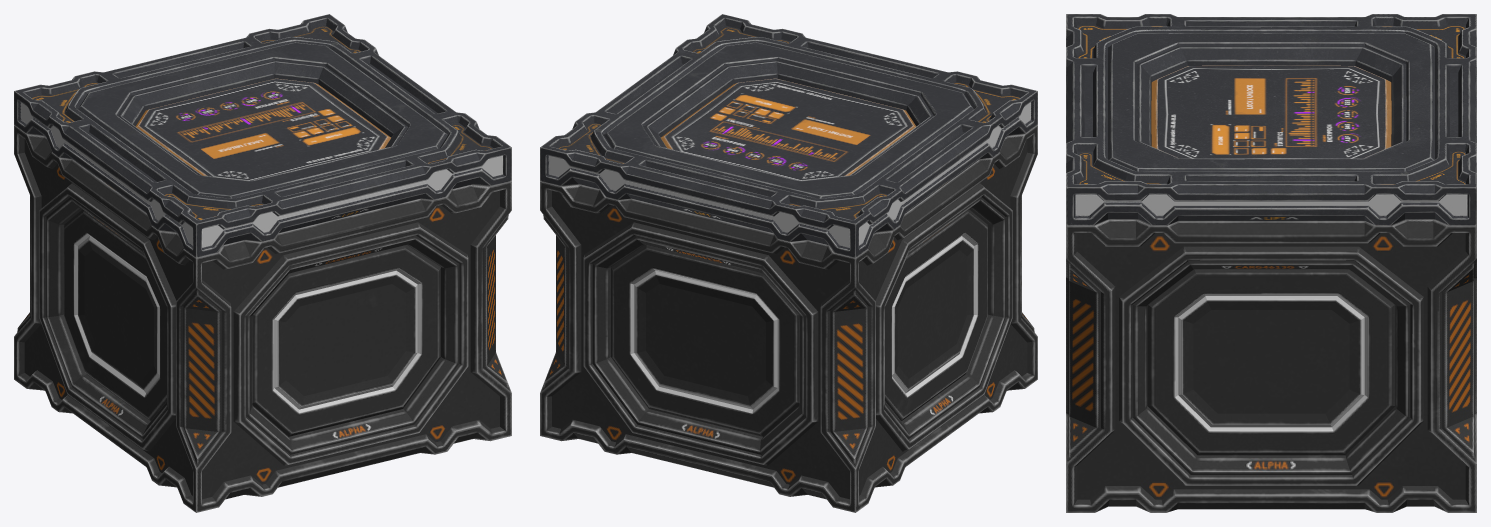
The picture shows the model from 3 angles, left to right: view 1: azimuth 30°, elevation 25°; view 2: azimuth 150°, elevation 25°; view 3: azimuth 270°, elevation 25°; orthographic projection. The views are drawn at different scales.
Parts seen in each view (by area): view 1: StorageBoxCore_low, StorageBoxTop_low; view 2: StorageBoxCore_low, StorageBoxTop_low; view 3: StorageBoxCore_low, StorageBoxTop_low.
Part boxes in pixels (x1=…): StorageBoxCore_low: x1=14, y1=125, x2=511, y2=512; StorageBoxTop_low: x1=14, y1=14, x2=511, y2=258; StorageBoxCore_low: x1=540, y1=125, x2=1037, y2=512; StorageBoxTop_low: x1=540, y1=14, x2=1037, y2=258; StorageBoxCore_low: x1=1066, y1=219, x2=1476, y2=512; StorageBoxTop_low: x1=1066, y1=14, x2=1476, y2=225.
Size of the model in its own units: 0.7979 by 0.6974 by 0.7979.
Materials: 2 (2 with a texture image).
